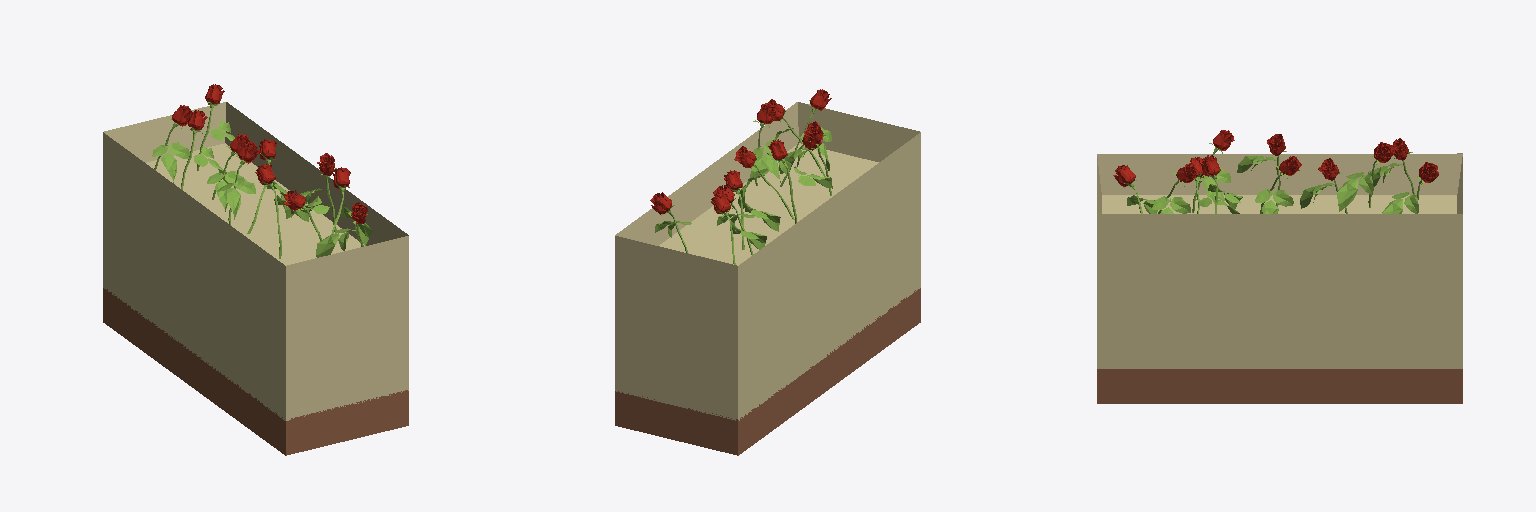
3 views of the same model, side by side, from view 1: azimuth 30°, elevation 25°; view 2: azimuth 150°, elevation 25°; view 3: azimuth 270°, elevation 25° (orthographic).
Parts seen in each view (by area): view 1: florero; view 2: florero; view 3: florero.
Boxes of the visible parts, <box> form: florero: <box>103,84,408,455</box>; florero: <box>615,89,920,455</box>; florero: <box>1097,130,1462,403</box>.
Size of the model in its own units: 3.51 by 6.38 by 8.98.
Materials: 6 (5 with a texture image).